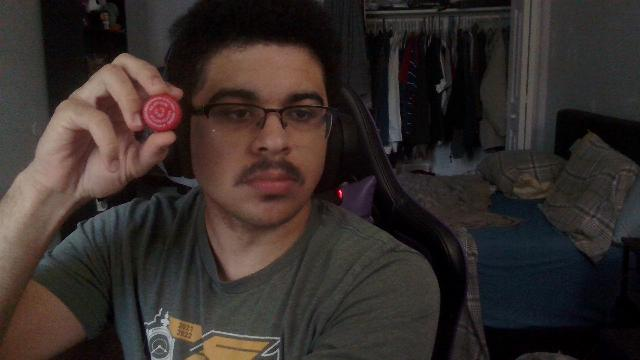cap: (143, 94, 183, 132)
